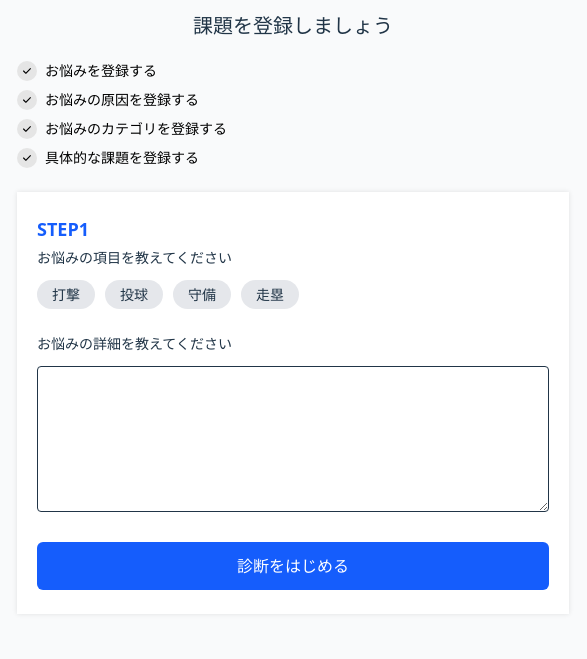
Test: STEP画面1のテスト › カテゴリのみ選択してボタンを押した場合、「入力テストがありません」の文字列が表示される
This screenshot has width=587, height=659.
Click the radio button with class "step1Radio".
click(66, 294)  # box [37,280,95,309]
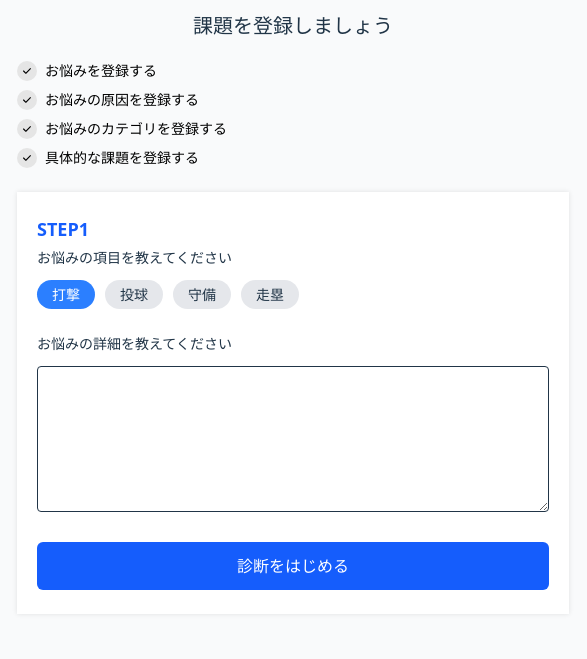
Click the button "診断をはじめる".
click(293, 566)  # box [37,542,549,590]
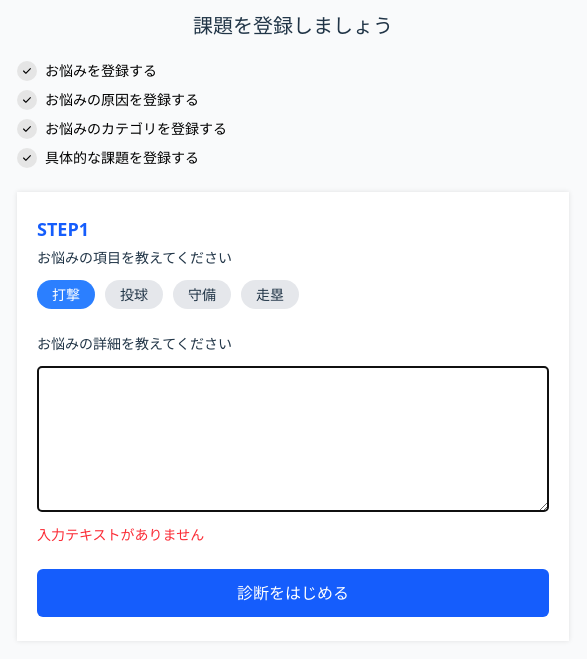
expect the text "入力テキストがありません" is shown: met, box [37,525,204,544]
